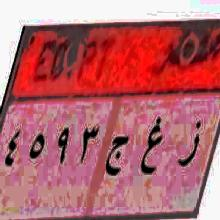3: (78, 119, 99, 170)
4: (2, 122, 20, 176)
5: (27, 127, 46, 170)
9: (54, 119, 70, 171)
ghayn: (137, 108, 163, 180)
jeem: (105, 127, 129, 186)
zay: (175, 108, 203, 176)
